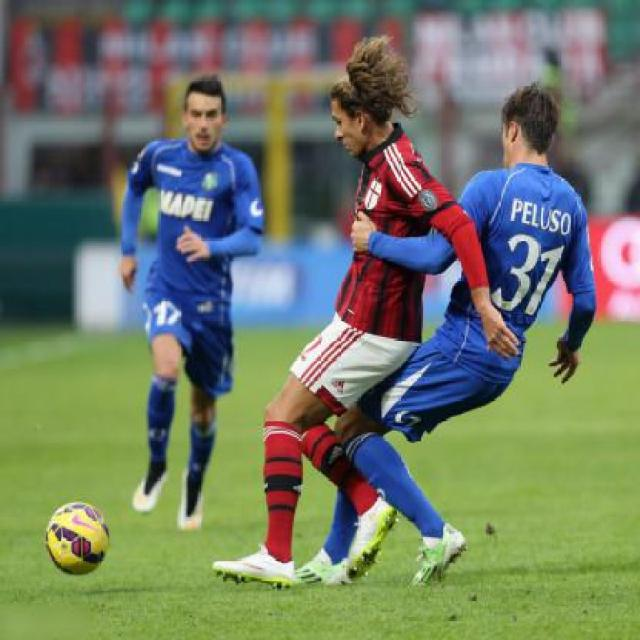Person: (255, 33, 442, 615), (91, 65, 260, 521)
